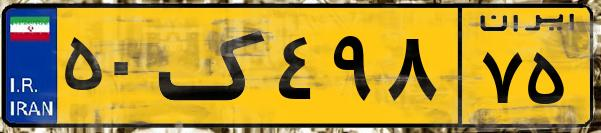0: (110, 28, 158, 98)
4: (270, 28, 330, 110)
5: (57, 26, 110, 100), (525, 38, 570, 115)
7: (475, 38, 525, 113)
8: (385, 28, 445, 110)
9: (330, 28, 385, 110)
ک: (158, 12, 270, 120)
